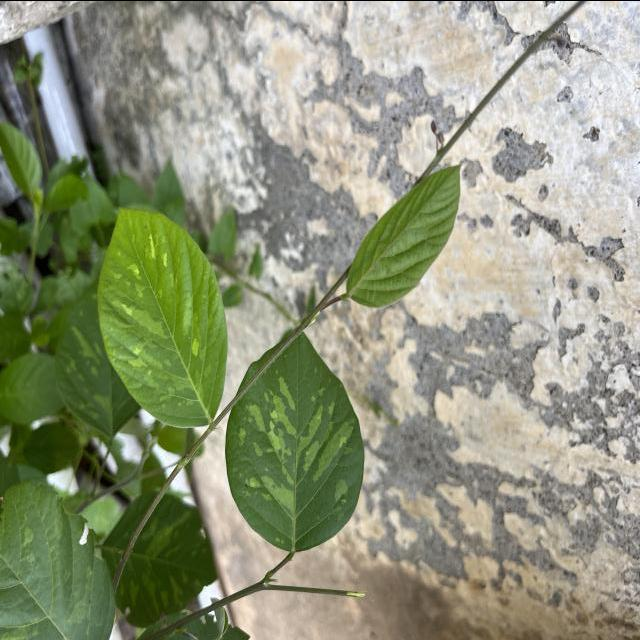Desmodium gangeticum: (224, 322, 366, 554), (96, 204, 229, 429)
